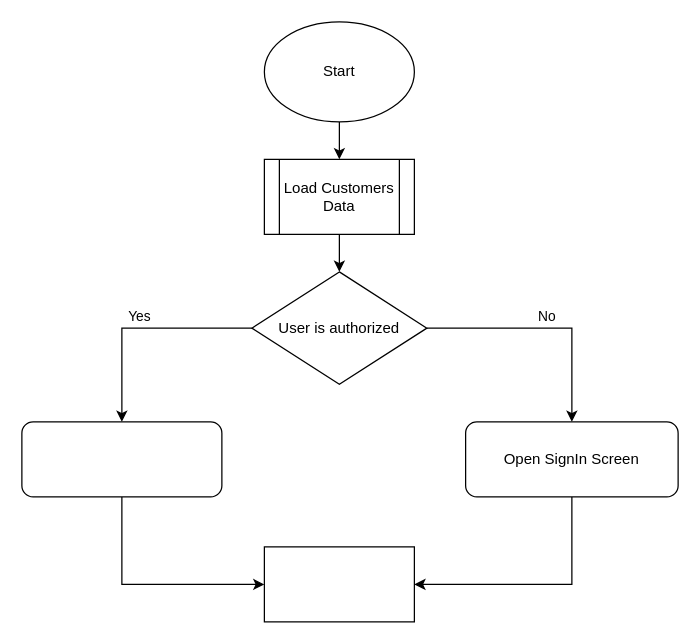
Some shapes in this 700 by 644 pixel diagram are drawn without their labels. The box of each missing label's shape, as (x1, y1, x2, y2) in pixels:
Finish: (263, 546, 414, 622)
Open Transactions Screen: (21, 421, 222, 497)
